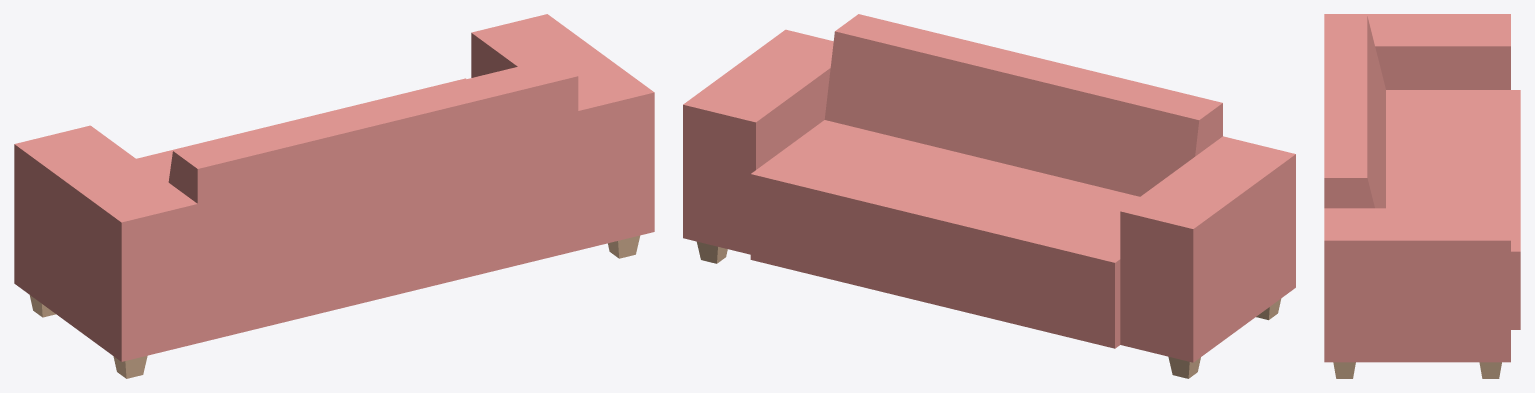
Rendered from Furniture_Couch_Double.fbx.
3 views of the same model, side by side, from view 1: azimuth 30°, elevation 25°; view 2: azimuth 150°, elevation 25°; view 3: azimuth 270°, elevation 25° (orthographic). The views are drawn at different scales.
Parts seen in each view (by area): view 1: loungeDesignSofa; view 2: loungeDesignSofa; view 3: loungeDesignSofa.
Part boxes in pixels (<box>): loungeDesignSofa: <box>14,14,654,378</box>; loungeDesignSofa: <box>683,14,1295,378</box>; loungeDesignSofa: <box>1324,14,1520,378</box>.
Bounding box in the file's own units: 281 × 100 × 103.
